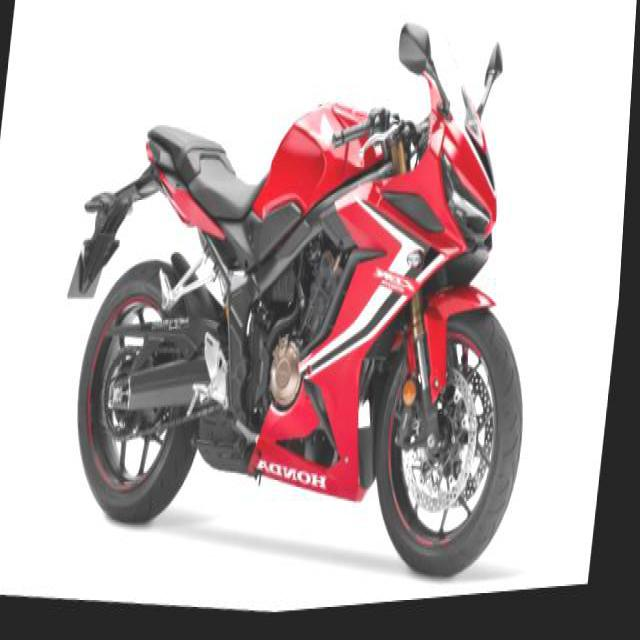CBR650R: (66, 0, 570, 621)
